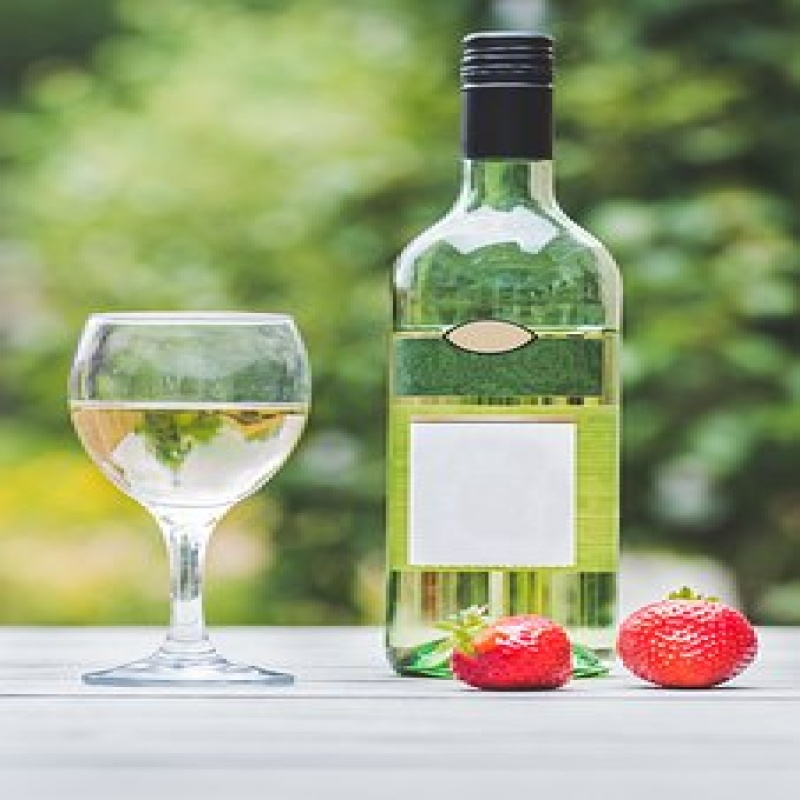wine: (393, 33, 612, 654)
